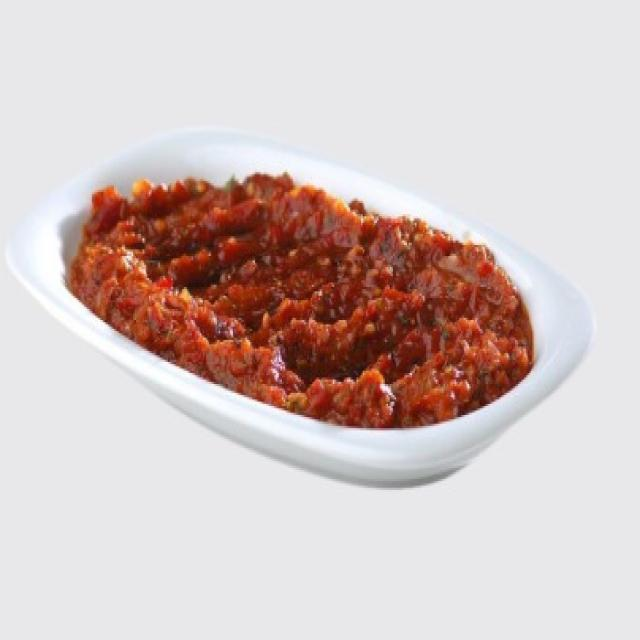yan_yemek: (67, 166, 536, 428)
